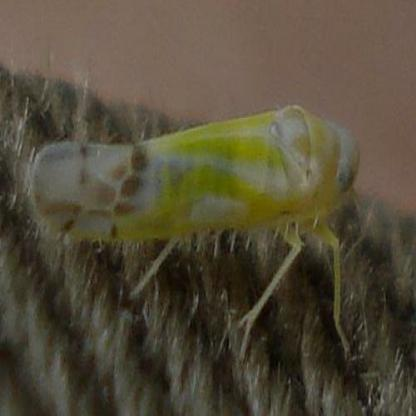green-leafhopper: (34, 115, 360, 244)
